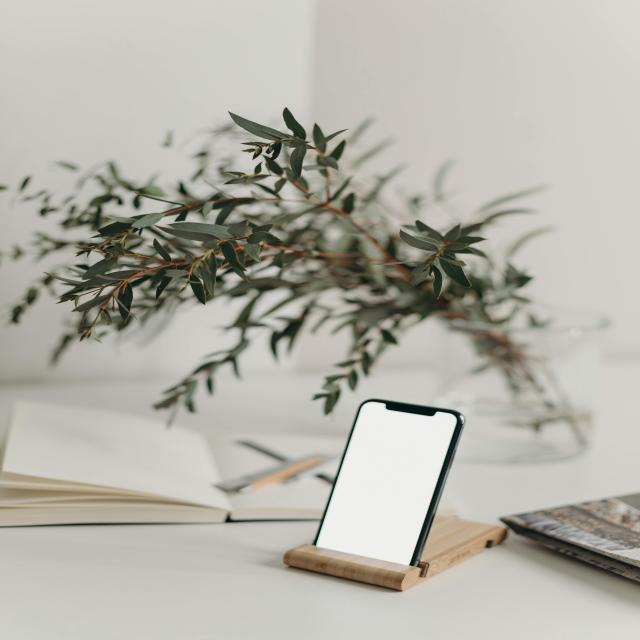Mobile: (307, 373, 492, 622)
